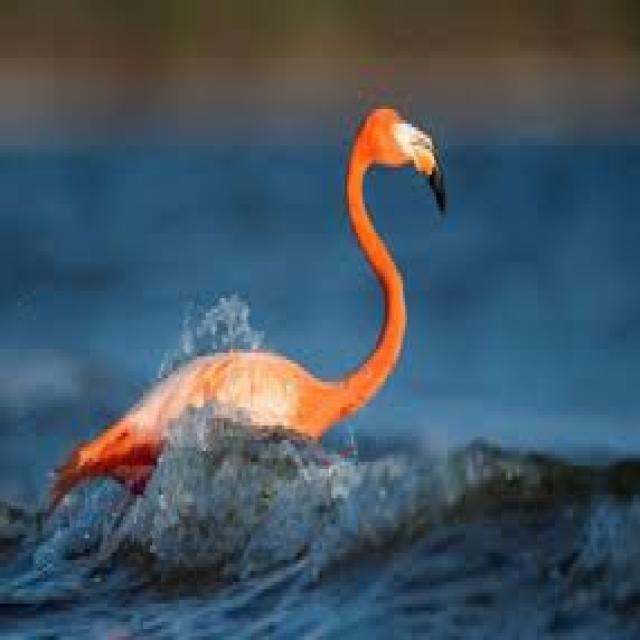Flamingo: (41, 88, 452, 535)
